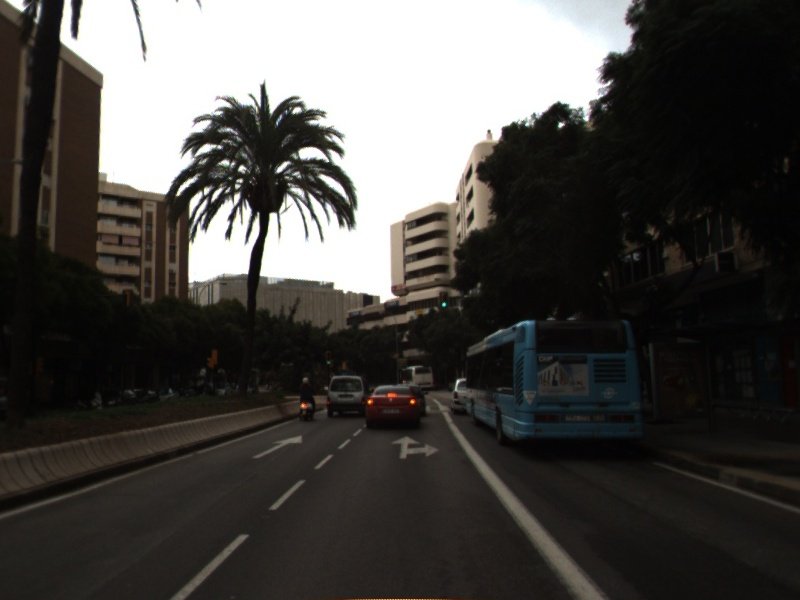STRAIGHT: (250, 434, 304, 461)
STRAIGHT_RIGHT: (389, 434, 442, 460)
